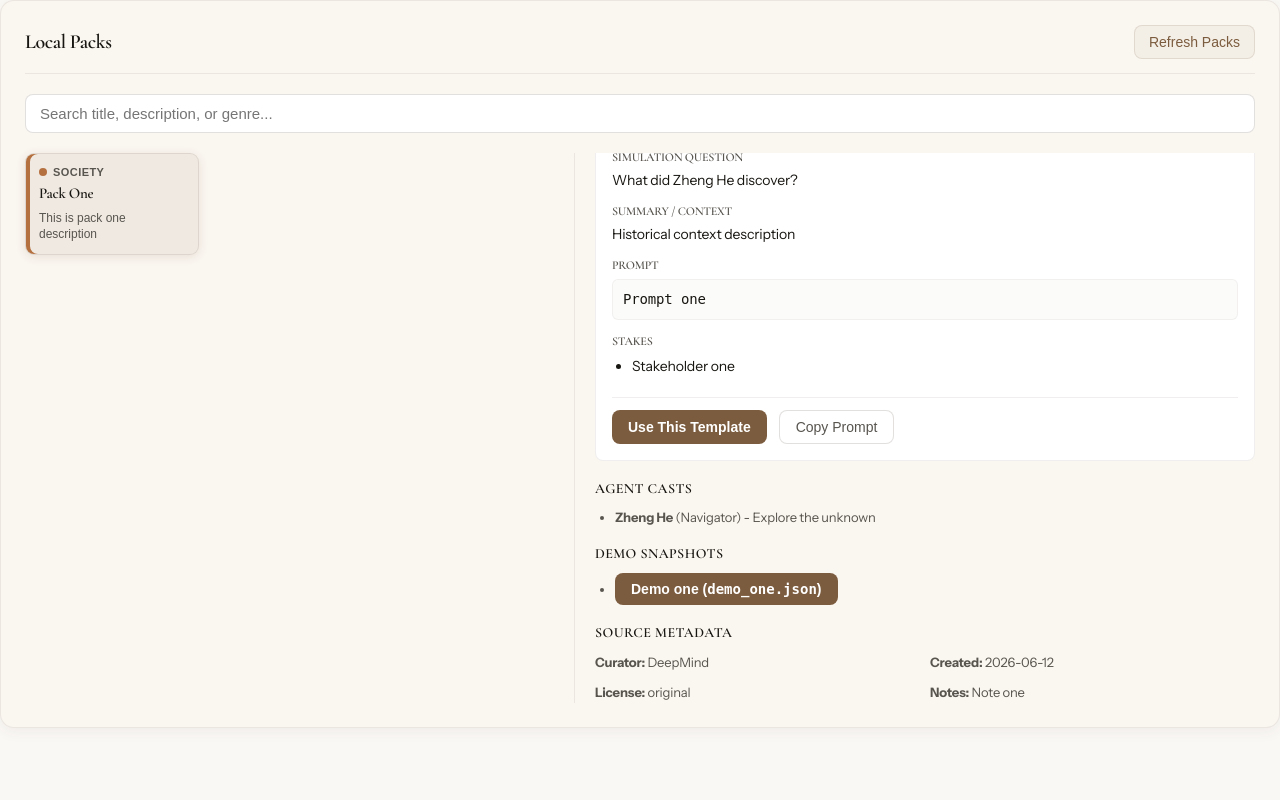
Test: LocalPackPicker › reports a transport failure as an unknown import outcome
This screenshot has width=1280, height=800.
(page scrolled)
Step 1. Click the button "Demo one (demo_one.json)" → (726, 589), box x1=615 y1=573 x2=838 y2=605
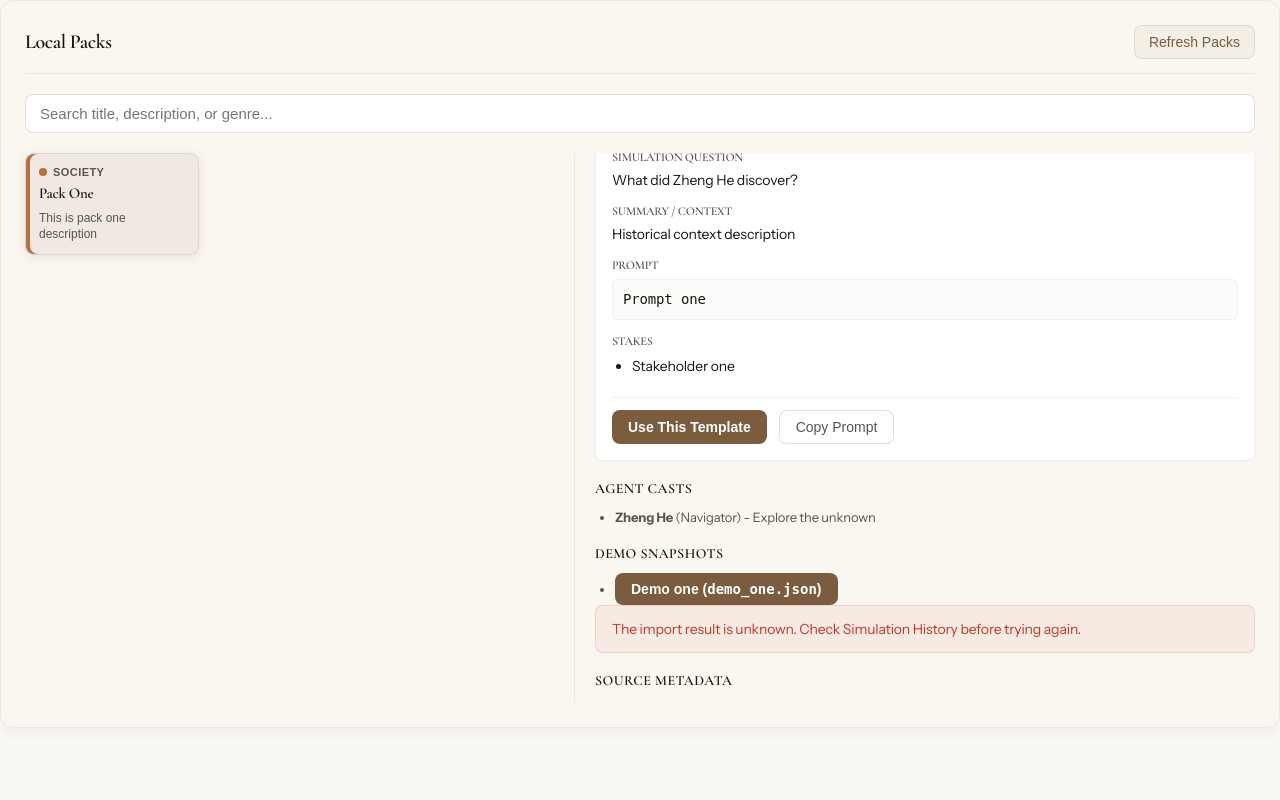
Expected: the message reads "The import result is unknown. Check Simulation History before trying again.", x1=612 y1=620 x2=1081 y2=638
